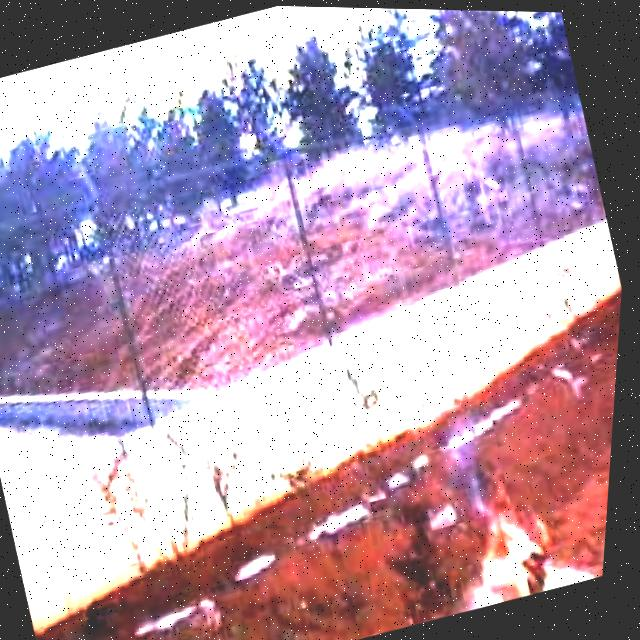Fire: (456, 447, 579, 605)
